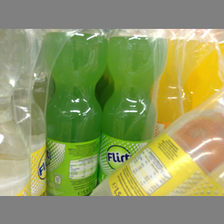soda: (44, 29, 105, 196), (101, 32, 166, 174), (1, 29, 45, 194)
